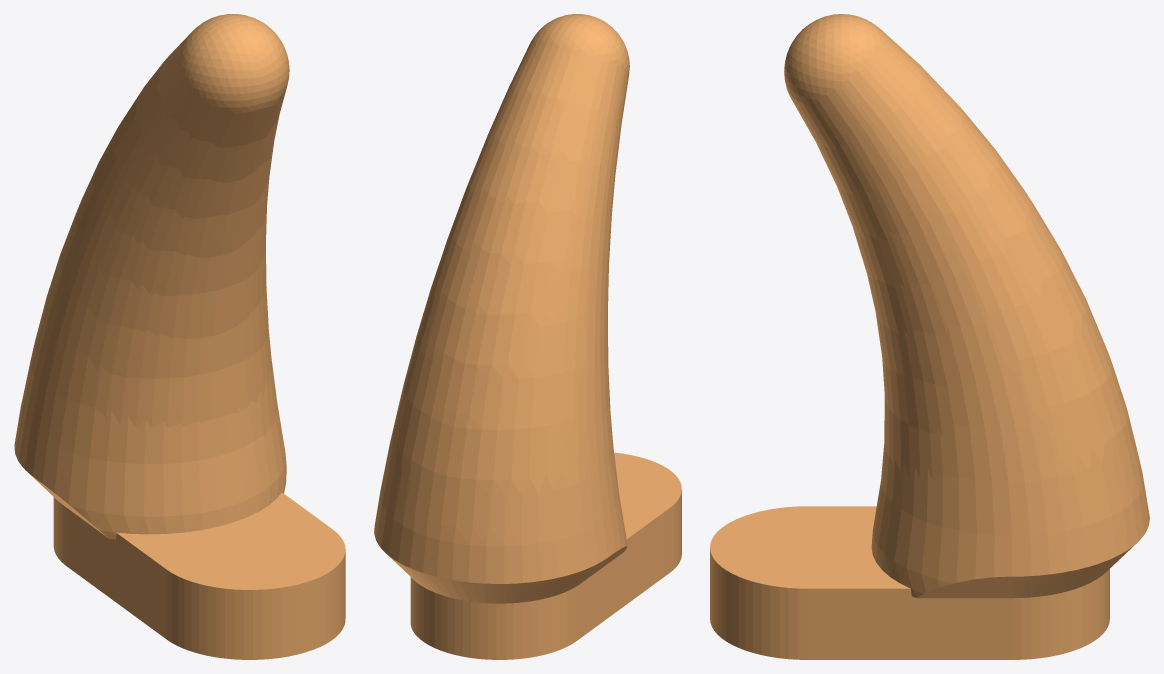
The model's file is waddle-tail-s.glb.
The picture shows the model from 3 angles, left to right: view 1: azimuth 30°, elevation 25°; view 2: azimuth 150°, elevation 25°; view 3: azimuth 270°, elevation 25°; orthographic projection. The views are drawn at different scales.
Visible parts, largest first — view 1: waddle-tail-s; view 2: waddle-tail-s; view 3: waddle-tail-s.
Part boxes in pixels (x1=…): waddle-tail-s: x1=14, y1=14, x2=345, y2=659; waddle-tail-s: x1=374, y1=14, x2=681, y2=659; waddle-tail-s: x1=710, y1=14, x2=1149, y2=659.
Bounding box in the file's own units: 0.0168 × 0.0404 × 0.0268.
